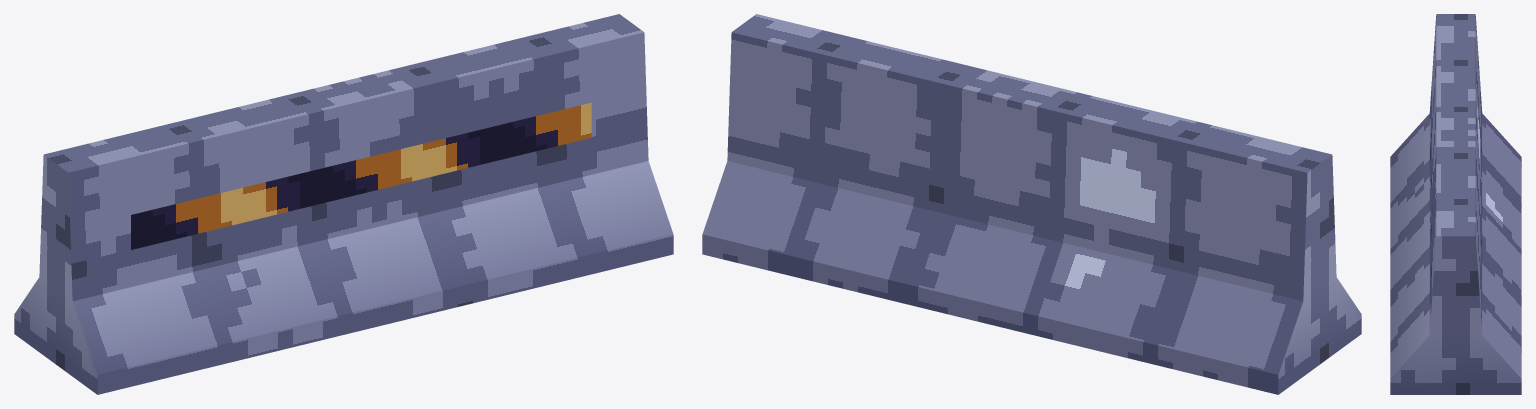
Rendered from cytech.barrier.glb.
3 views of the same model, side by side, from view 1: azimuth 30°, elevation 25°; view 2: azimuth 150°, elevation 25°; view 3: azimuth 270°, elevation 25° (orthographic). The views are drawn at different scales.
Visible parts, largest first — view 1: kit_barrier, kit_card_bands; view 2: kit_barrier; view 3: kit_barrier.
Part boxes in pixels (left/top/right/bottom): kit_barrier: left=14, top=14, right=673, bottom=394; kit_card_bands: left=131, top=102, right=591, bottom=249; kit_barrier: left=702, top=14, right=1361, bottom=394; kit_barrier: left=1390, top=14, right=1521, bottom=394.
Size of the model in its own units: 2.4 by 0.8 by 0.6.
2 materials, 2 textured.
